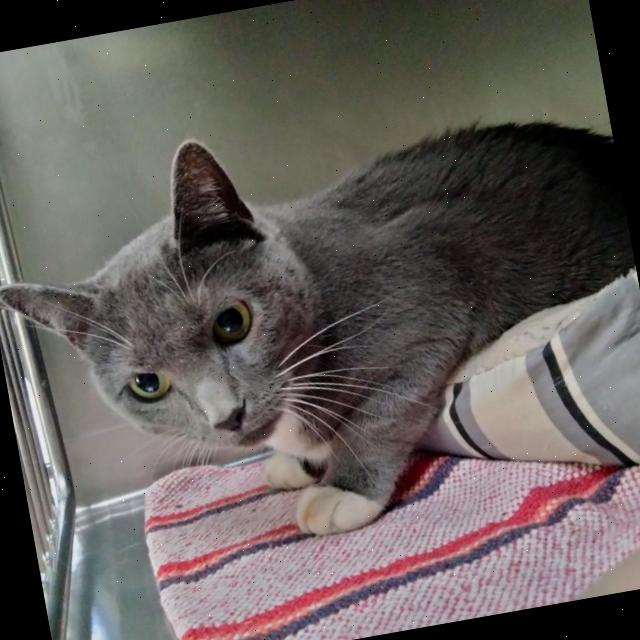manx_cat: (0, 108, 372, 502)
